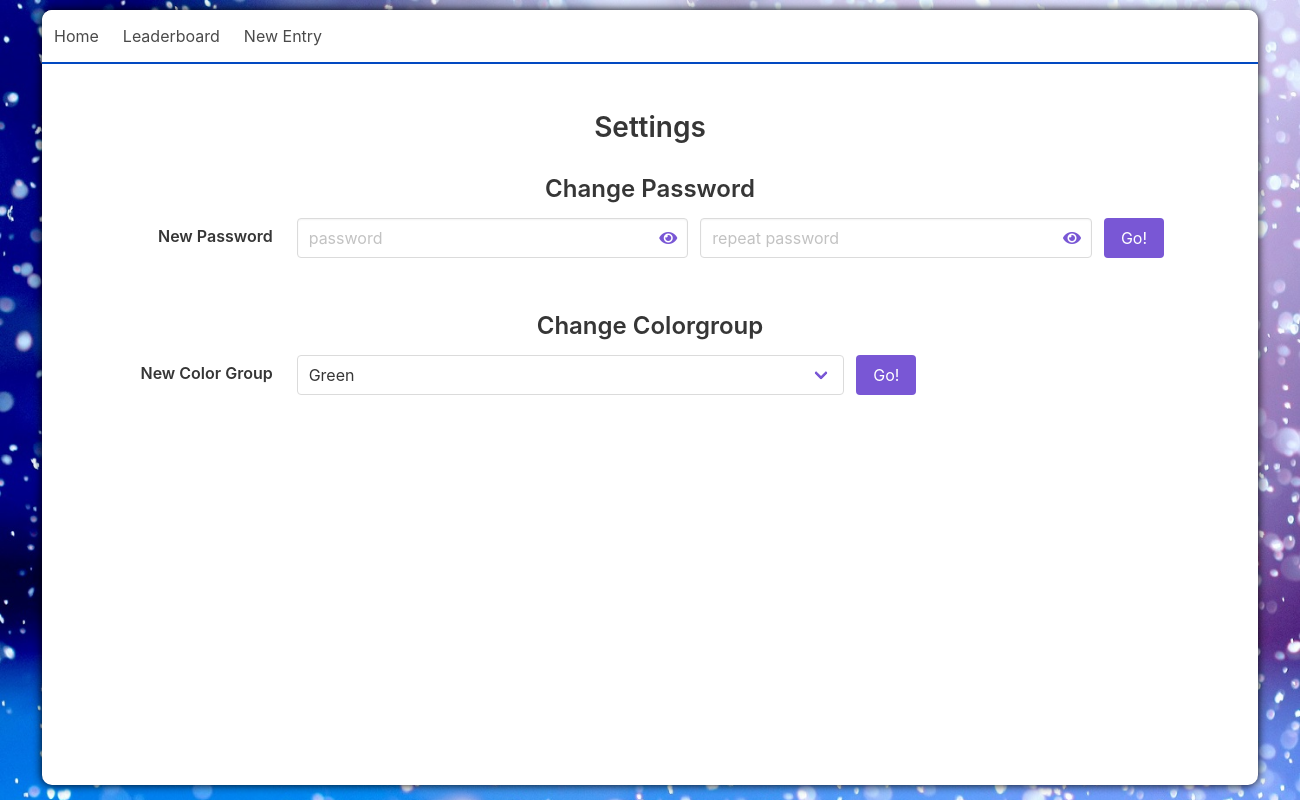
Test: Settings Page › change password › shows error if password is too short
Type "x" into the password field with placeholder "password". click: (493, 239)
box: [297,219,689,259]
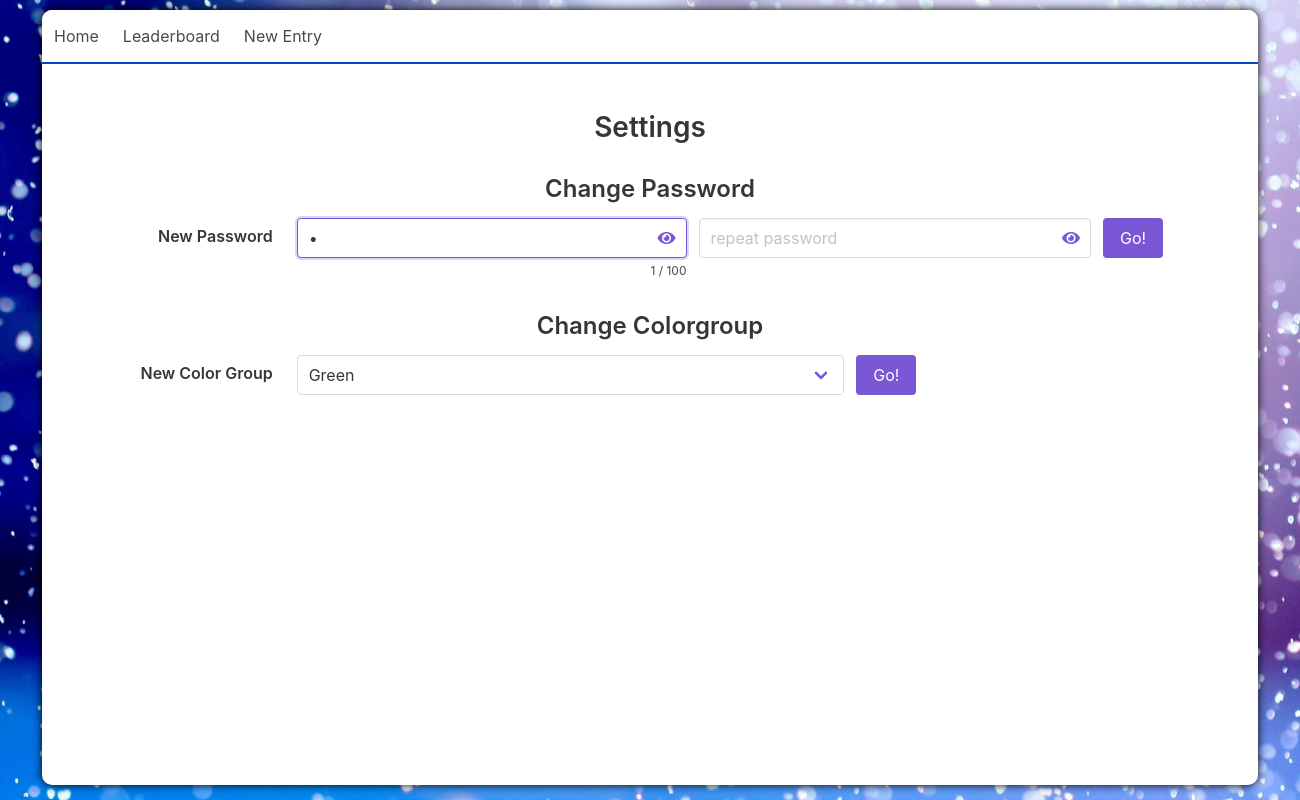
Type "x" into the password field with placeholder "repeat password". click: (896, 239)
box: [699,219,1092,259]
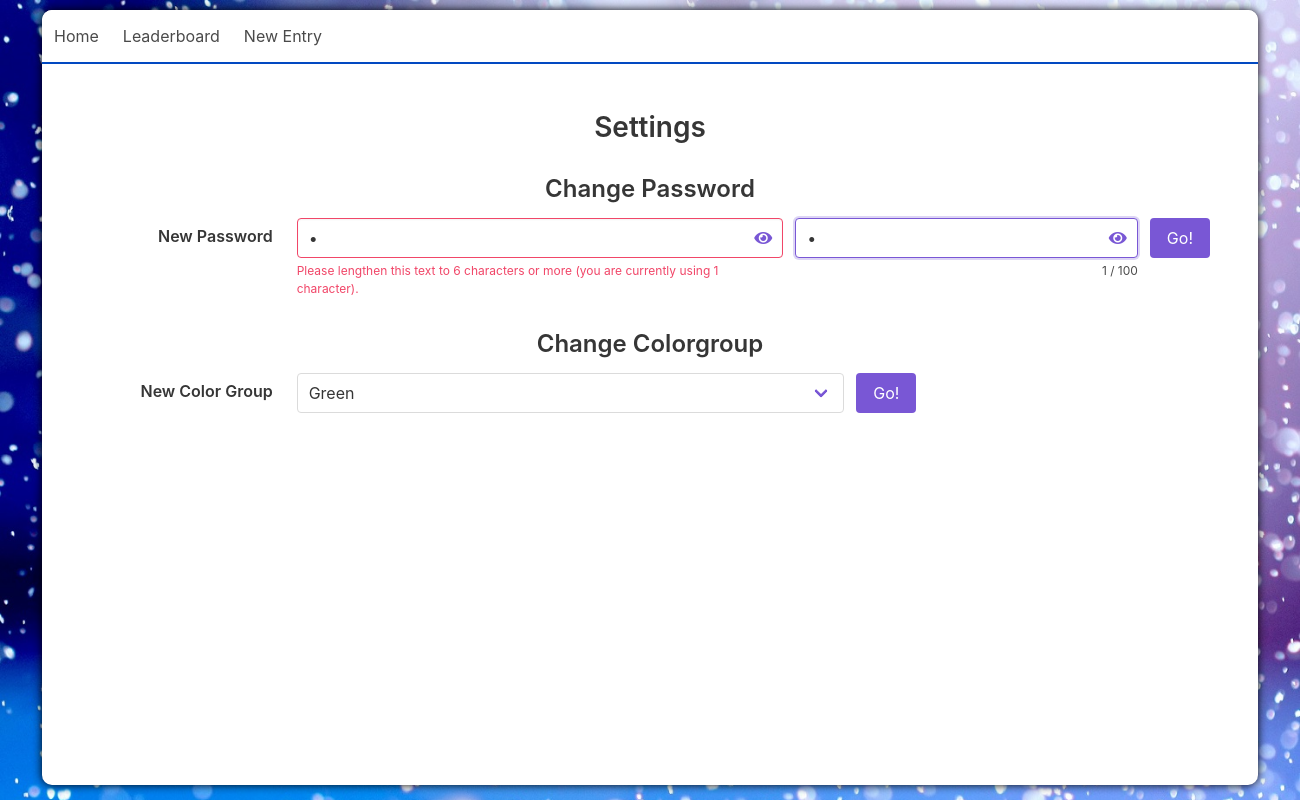
Click the button with id "save-pass-button". click: (1180, 239)
box: [1150,219,1210,259]
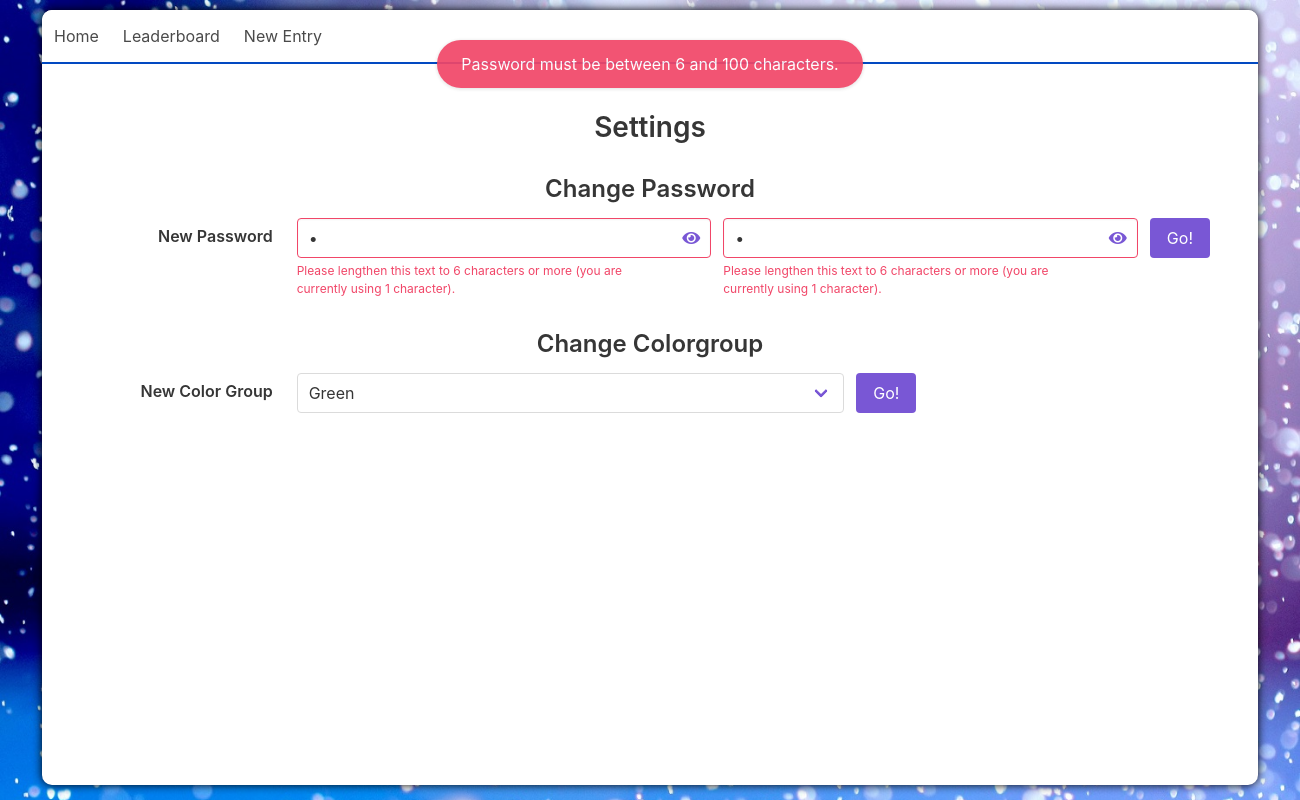
Now the text "Password must be between 6 and 100 characters" is shown, box [461,54,838,74]
